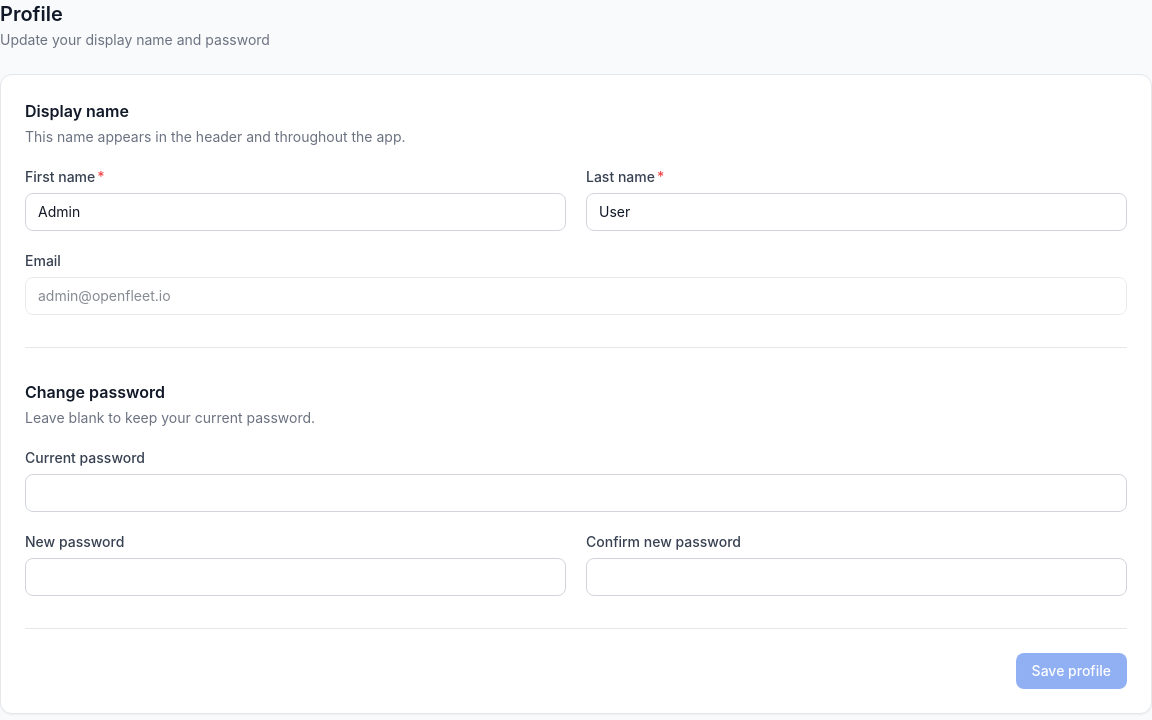
ProfilePage › requires matching passwords when changing password
Expected: the heading "Profile" is shown, [0, 2, 63, 26]
Type "Admin@1234" into the password field labelled "Current password" at (576, 493), box [25, 474, 1127, 512]
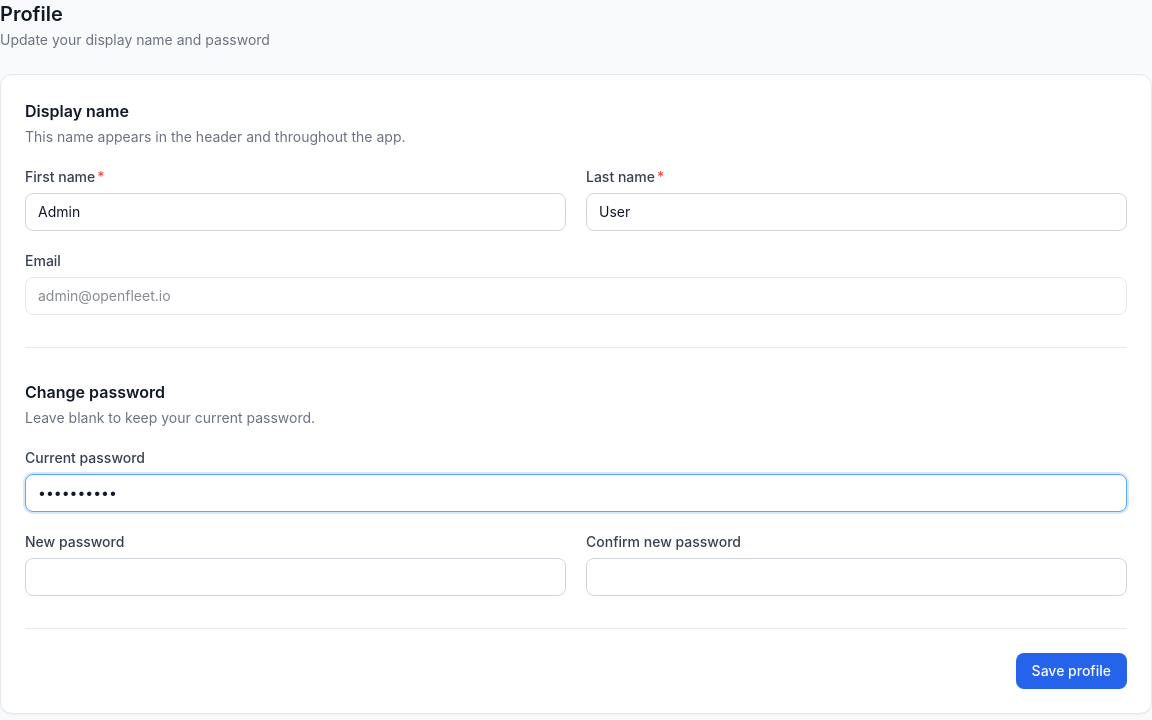
Type "NewPass@1234" into the password field labelled "New password" at (296, 577), box [25, 558, 566, 596]
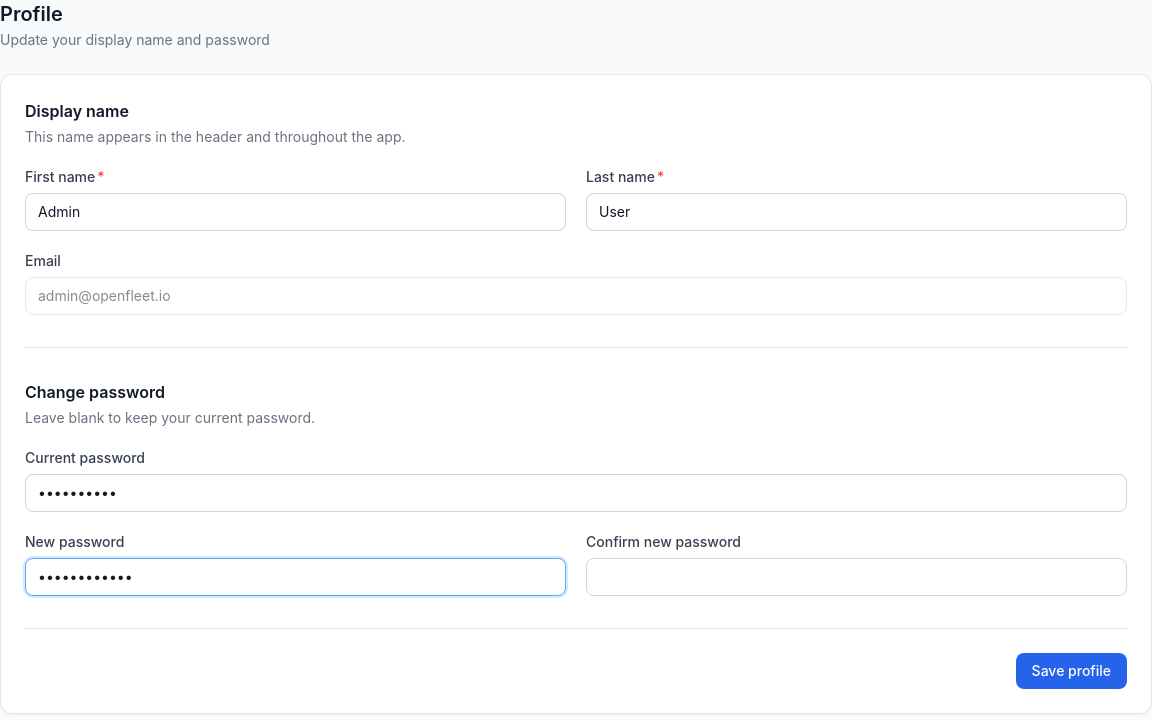
Type "Mismatch@1234" into the password field labelled "Confirm new password" at (856, 577), box [586, 558, 1127, 596]
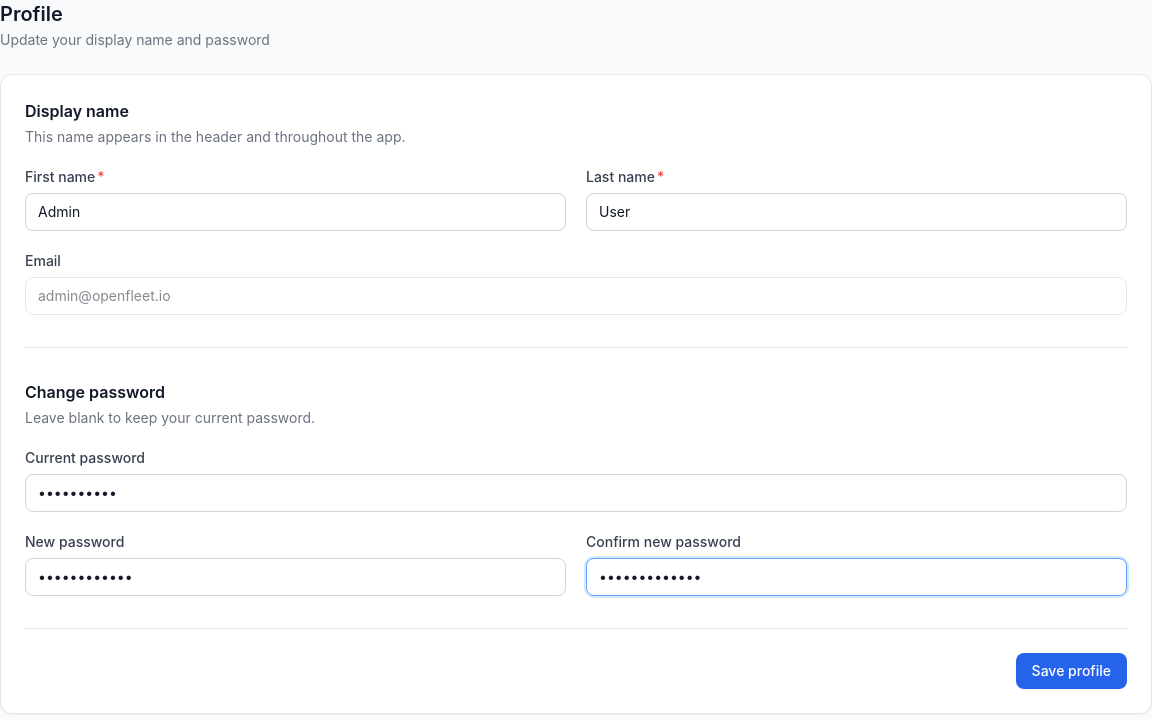
Click the button "Save profile" at (1071, 671), box [1016, 653, 1127, 689]
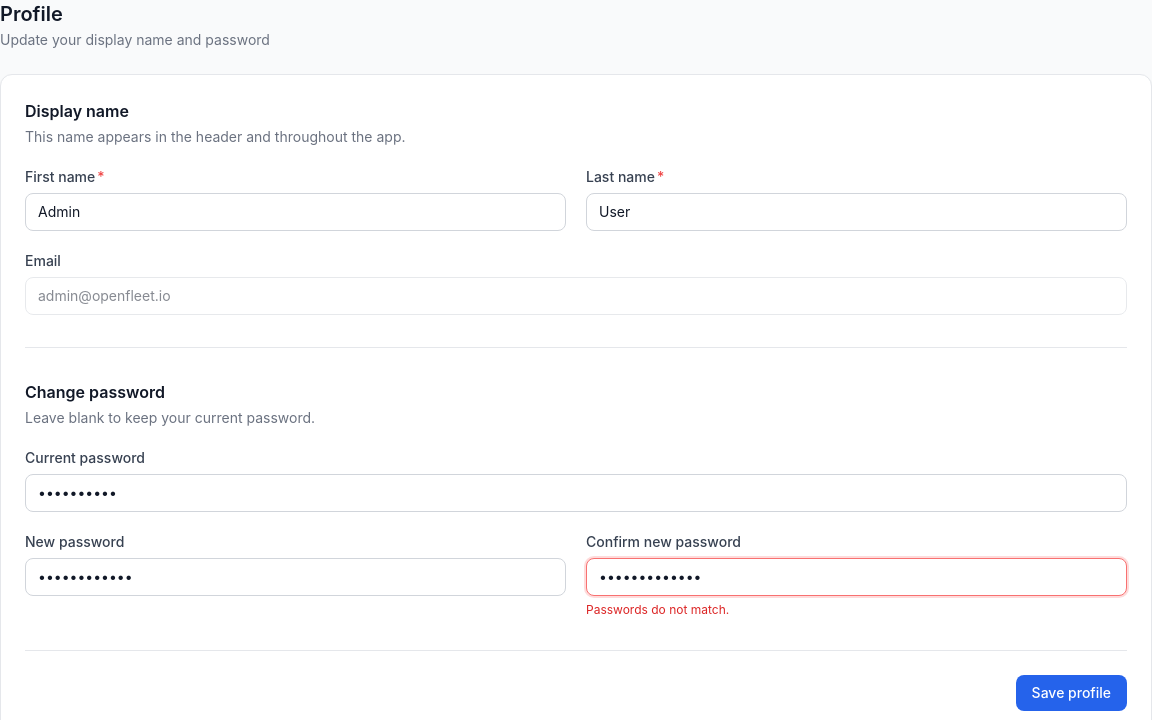
Now the text "Passwords do not match." is shown, box [586, 602, 729, 617]
